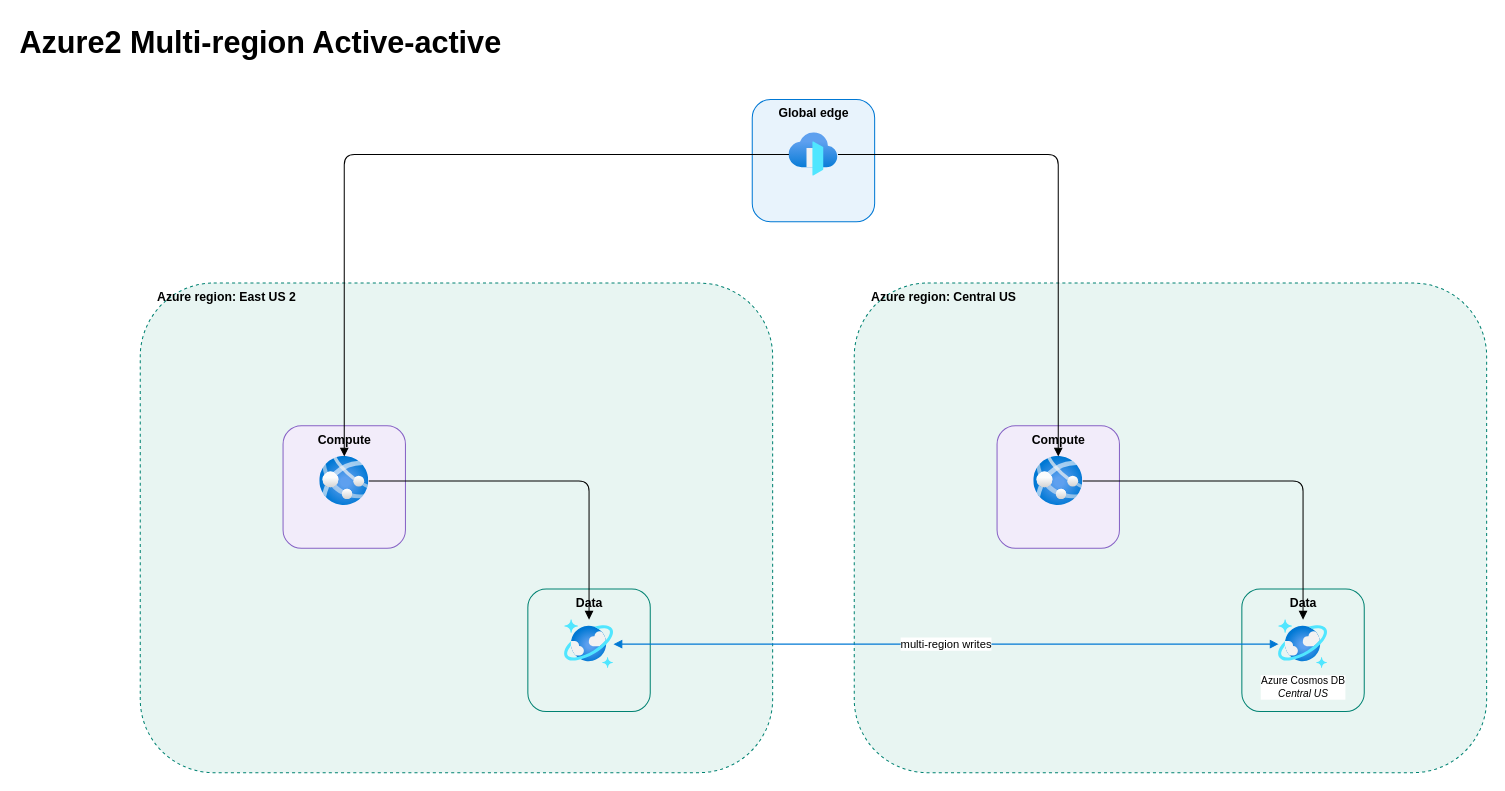
Some shapes in this 1505 by 791 pixel diagram are drawn without their labels. The shapes that lost their labels are listed below. From the top down, each one's centre as x and y in pixels, then its label:
At point (812, 154): "Azure Front Door health-based routing".
At point (343, 480): "App Service region A".
At point (1057, 480): "App Service region B".
At point (588, 643): "Azure Cosmos DB East US 2".
